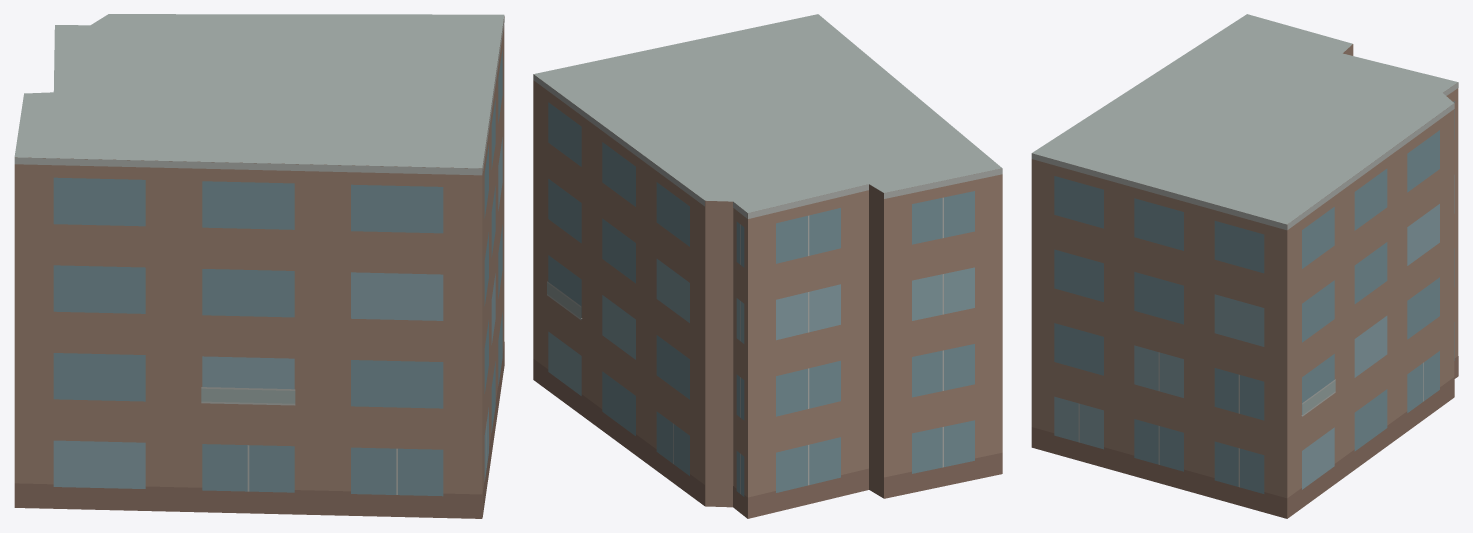
Rendered from survey-upis-33021462.glb.
3 renders of one model, left to right at view 1: azimuth 30°, elevation 25°; view 2: azimuth 150°, elevation 25°; view 3: azimuth 270°, elevation 25°, orthographic. The views are drawn at different scales.
Visible parts, largest first — view 1: survey-upis-33021462.tmp; view 2: survey-upis-33021462.tmp; view 3: survey-upis-33021462.tmp.
Part boxes in pixels (box(x1,y1,x2,y2)): survey-upis-33021462.tmp: box(14, 14, 504, 518); survey-upis-33021462.tmp: box(533, 14, 1002, 518); survey-upis-33021462.tmp: box(1031, 14, 1458, 518).
Bounding box in the file's own units: 19.04 × 12.4 × 16.31.
